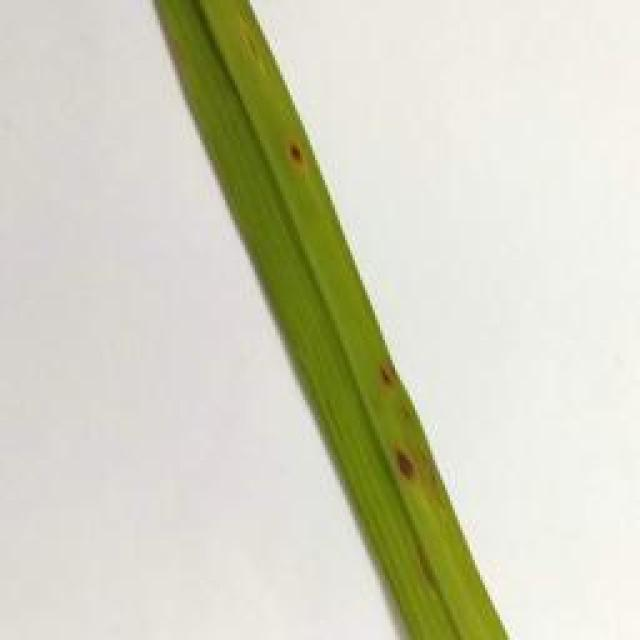Brown_Spot: (376, 435, 426, 484), (282, 129, 316, 182), (374, 354, 408, 393)
